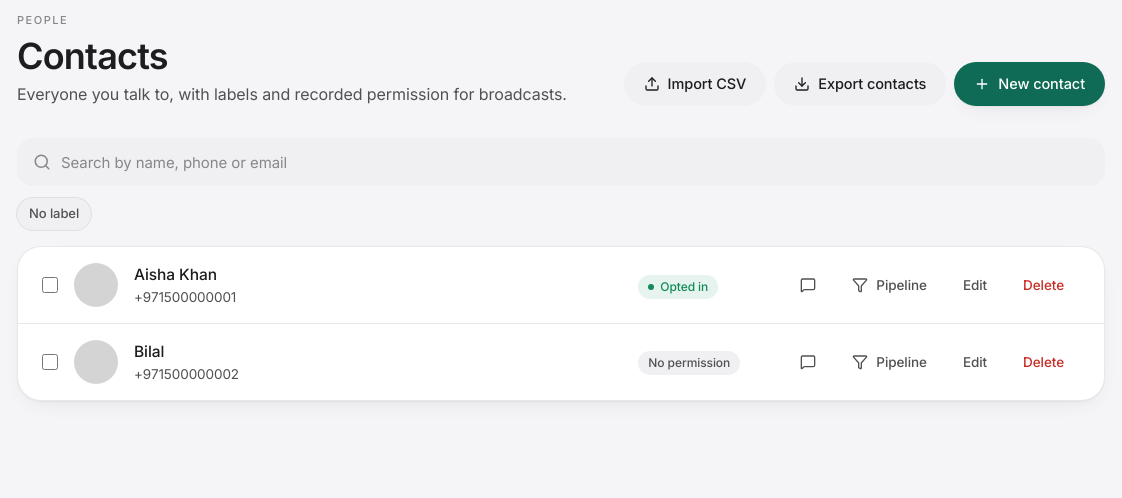
Test: Contacts and the pipeline › lets a manager pick several contacts and add them together
Expected: the text "Aisha Khan" is shown, [134,265,217,284]
Expected: the text "selected" is not shown
Step 1. Click the checkbox named "Select Aisha Khan" → x=50, y=285, box [42,277,58,293]
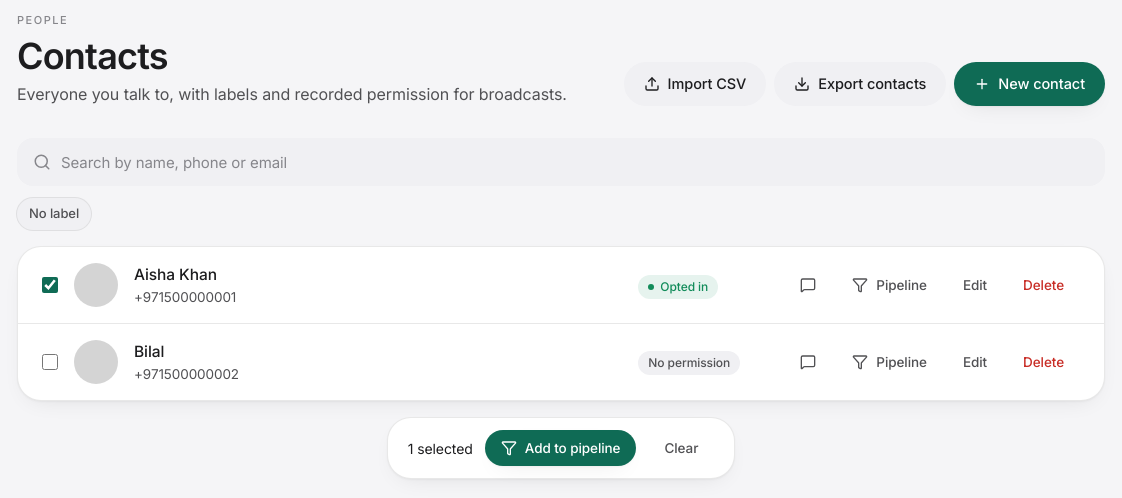
Step 2. Click the checkbox named "Select Bilal" → x=50, y=362, box [42,354,58,370]
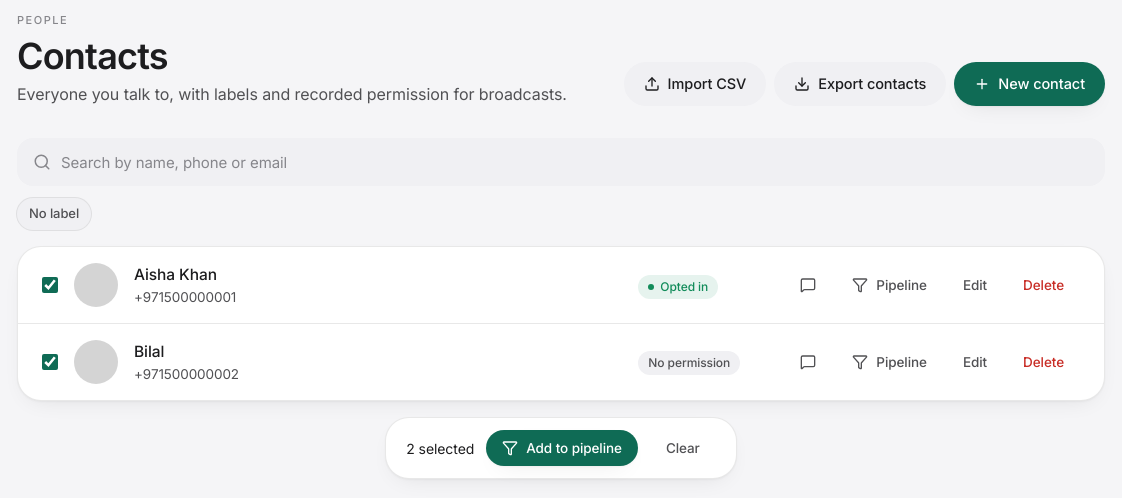
Expected: the text "2 selected" is shown, [406,438,474,459]
Step 3. Click the button "Add to pipeline" → x=562, y=448, box [486,430,638,466]
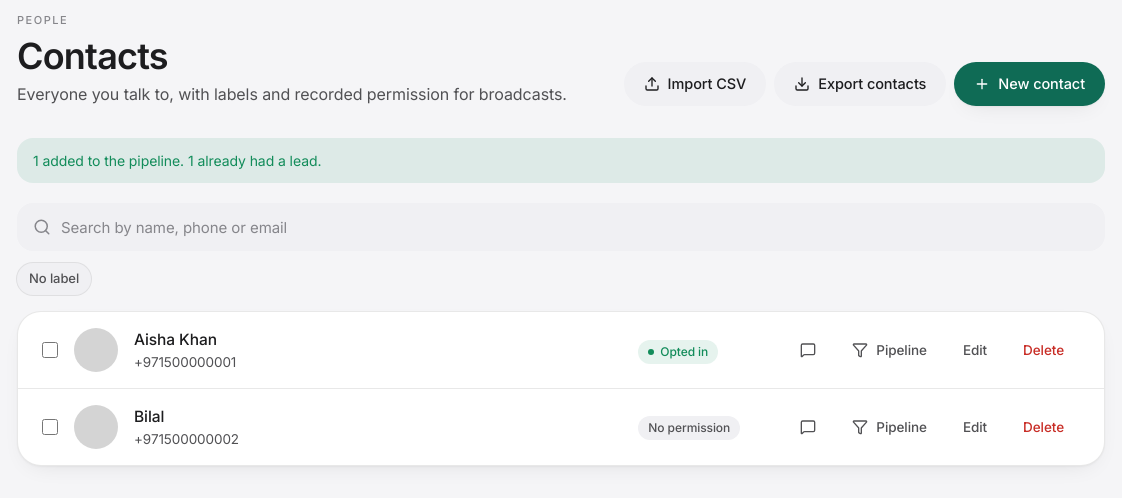
Expected: the text "1 added to the pipeline. 1 already had a lead." is shown, [17,138,1105,183]
Expected: the text "selected" is gone
